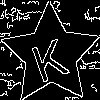K: (25, 30, 71, 84)
